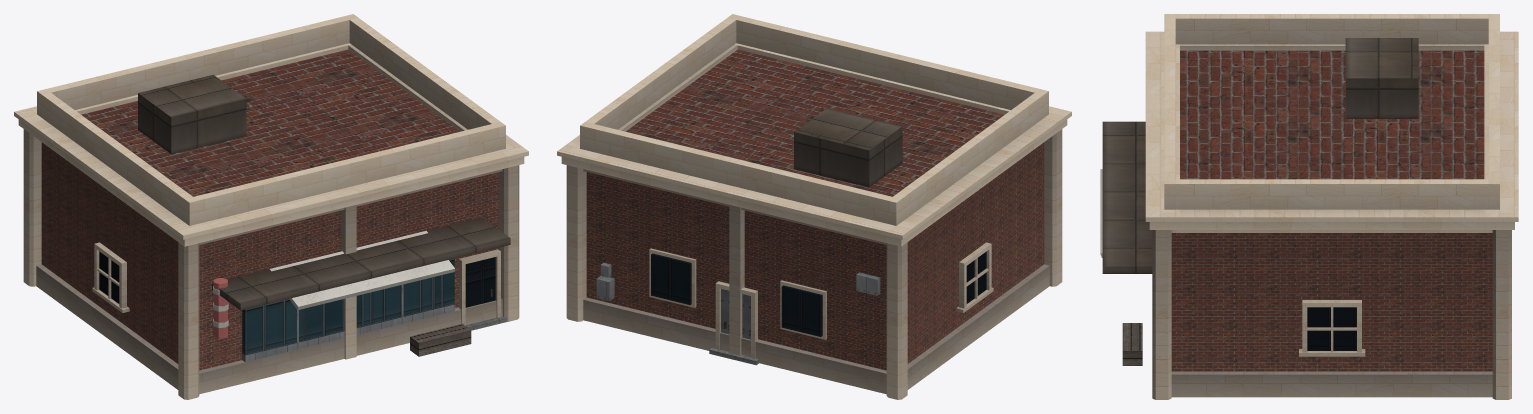
File: barber-shop_lod0.gltf
3 renders of one model, left to right at view 1: azimuth 30°, elevation 25°; view 2: azimuth 150°, elevation 25°; view 3: azimuth 270°, elevation 25°, orthographic. The views are drawn at different scales.
Parts seen in each view (by area): view 1: barber-shop__v4_stone_detail, barber-shop_main, barber-shop__v4_metal_detail, barber-shop_fen_07-glass-curtain-blue_1, barber-shop__awning, barber-shop_fen_04-limestone_2, barber-shop_fen_07-glass-curtain-blue_3_t, barber-shop_fen_14-steel-panel_0, barber-shop__bench, barber-shop__barber_pole; view 2: barber-shop_main, barber-shop__v4_stone_detail, barber-shop__v4_metal_detail, barber-shop_fen_07-glass-curtain-blue_3_t, barber-shop_fen_04-limestone_2, barber-shop_fen_14-steel-panel_0; view 3: barber-shop_main, barber-shop__v4_stone_detail, barber-shop__v4_metal_detail, barber-shop_fen_07-glass-curtain-blue_3_t, barber-shop_fen_04-limestone_2, barber-shop__bench.
Boxes of the visible parts, left/top/right/bottom form: barber-shop__v4_stone_detail: left=14, top=14, right=528, bottom=399; barber-shop_main: left=41, top=49, right=499, bottom=370; barber-shop__v4_metal_detail: left=138, top=74, right=510, bottom=310; barber-shop_fen_07-glass-curtain-blue_1: left=242, top=258, right=454, bottom=355; barber-shop__awning: left=269, top=230, right=454, bottom=309; barber-shop_fen_04-limestone_2: left=92, top=242, right=500, bottom=325; barber-shop_fen_07-glass-curtain-blue_3_t: left=99, top=251, right=495, bottom=307; barber-shop_fen_14-steel-panel_0: left=242, top=284, right=454, bottom=362; barber-shop__bench: left=410, top=324, right=471, bottom=356; barber-shop__barber_pole: left=213, top=278, right=227, bottom=338; barber-shop_main: left=586, top=49, right=1044, bottom=370; barber-shop__v4_stone_detail: left=557, top=14, right=1071, bottom=399; barber-shop__v4_metal_detail: left=794, top=108, right=902, bottom=187; barber-shop_fen_07-glass-curtain-blue_3_t: left=651, top=251, right=986, bottom=336; barber-shop_fen_04-limestone_2: left=649, top=242, right=993, bottom=358; barber-shop_fen_14-steel-panel_0: left=596, top=262, right=880, bottom=339; barber-shop_main: left=1171, top=50, right=1492, bottom=371; barber-shop__v4_stone_detail: left=1145, top=14, right=1518, bottom=399; barber-shop__v4_metal_detail: left=1102, top=38, right=1418, bottom=273; barber-shop_fen_07-glass-curtain-blue_3_t: left=1307, top=307, right=1356, bottom=350; barber-shop_fen_04-limestone_2: left=1299, top=300, right=1365, bottom=356; barber-shop__bench: left=1122, top=323, right=1142, bottom=365.
Size of the model in its own units: 13.22 by 7.35 by 12.58.
